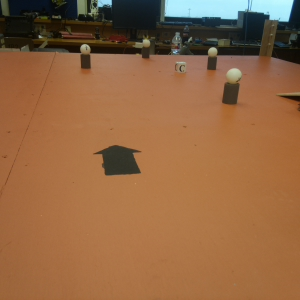blockC: (174, 60, 185, 74)
corner: (263, 21, 274, 56)
obstacle: (222, 69, 239, 104), (79, 43, 92, 69), (207, 46, 217, 69), (140, 40, 151, 59)
start: (94, 142, 143, 177)
